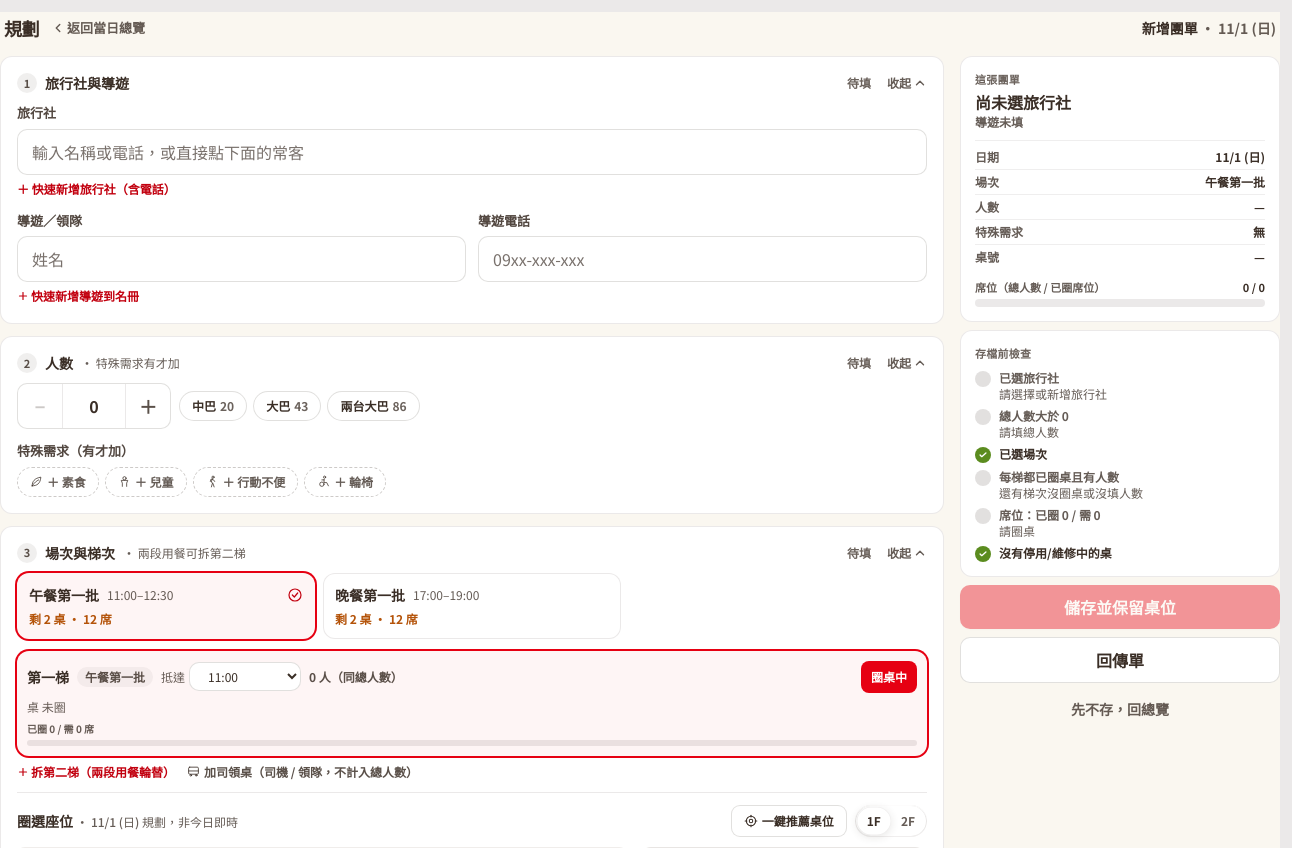
團單精靈：步驟收合 › 新增團單：維持一頁三段全開（#128），還沒完成的段落沒有「完成」鈕；可手動收起成「填寫」列
The image size is (1292, 848).
expect the button "儲存並保留桌位" is disabled: met, box [960,584,1280,628]
Click the button "收起" in the row of "特殊需求有才加" at (907, 363), box [879,341,935,385]
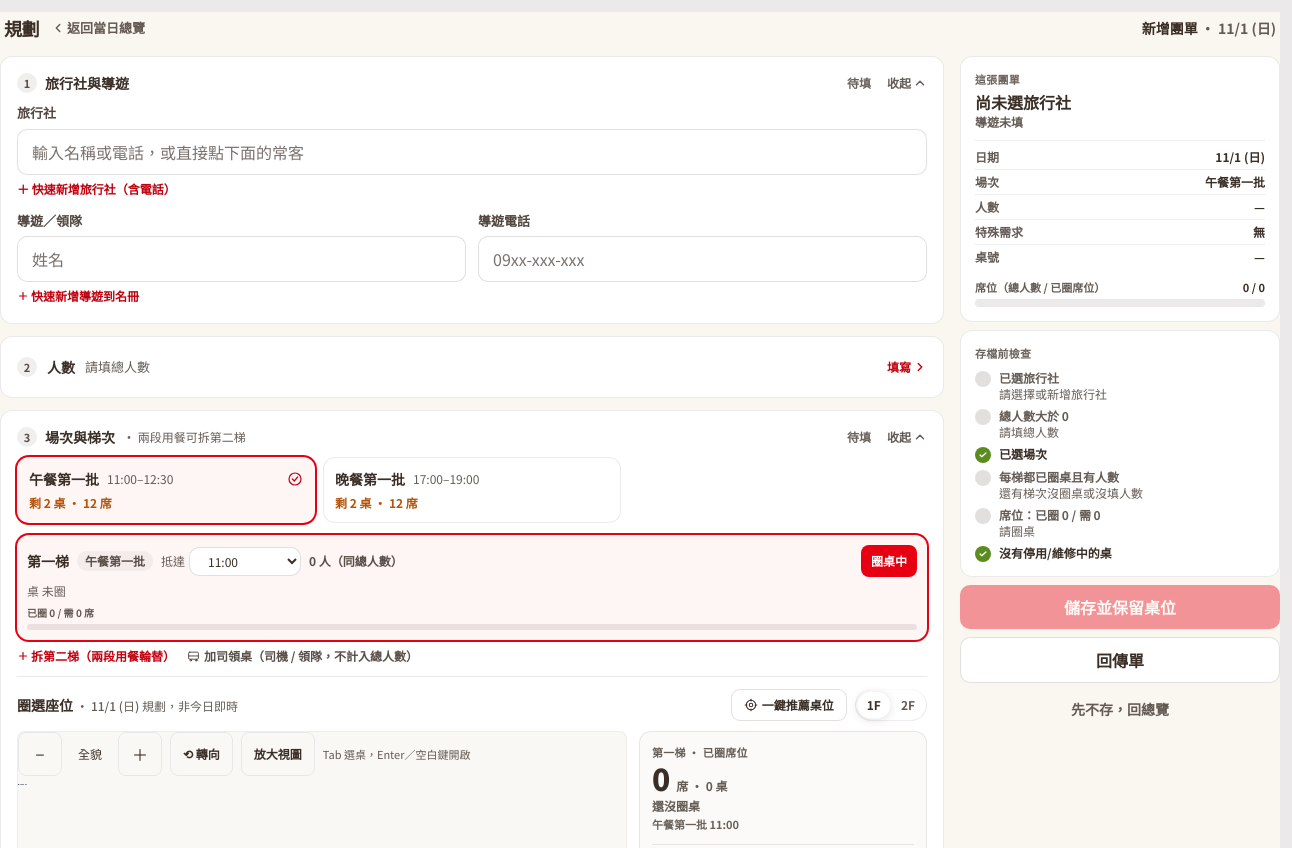
expect the button "填寫" is shown: met, box [879,345,927,389]
